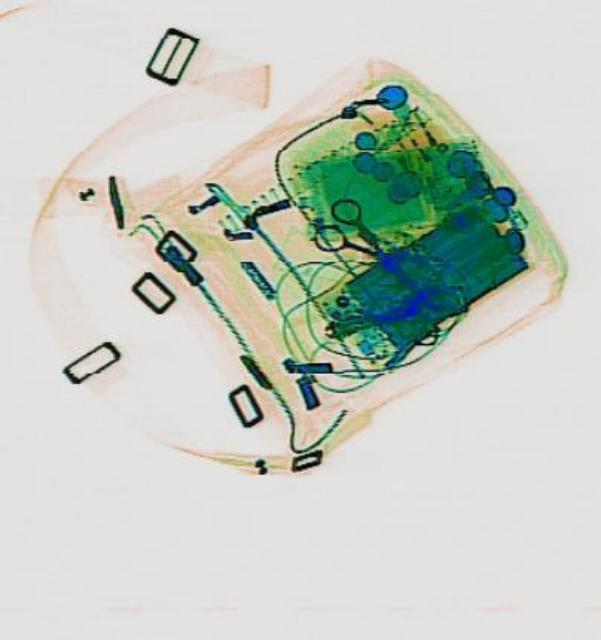Scissors: (302, 189, 418, 295)
